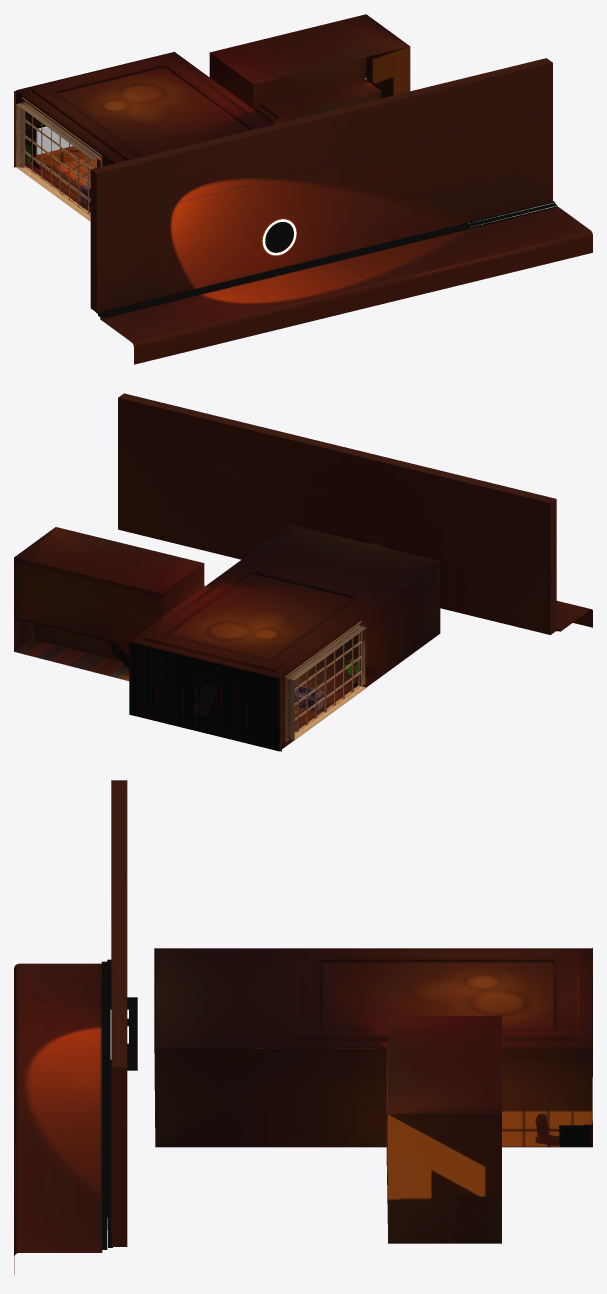
File: compressedRoomIntro.glb
The picture shows the model from 3 angles, top to bottom: view 1: azimuth 30°, elevation 25°; view 2: azimuth 150°, elevation 25°; view 3: azimuth 270°, elevation 25°; orthographic projection. The views are drawn at different scales.
Parts seen in each view (by area): view 1: Cube.009, Cube.016 room1_wall, entrance_wall, Cube.003, Cylinder.030 room1_window, Cube.016 room1_wall.001, Cube.004, Cube.005, Cube.006; view 2: Cube.009, Cube.016 room1_wall, hello world room1_floor, Cube.016 room1_wall.001, Cylinder.030 room1_window, Cube.004, entrance_wall, Cube.007, Cube.003; view 3: Cube.016 room1_wall, entrance_wall, Cube.009, Cube.003.
Part boxes in pixels (x1,y1,x2,y2): Cube.009: (90,58,552,312); Cube.016 room1_wall: (16,14,410,166); entrance_wall: (100,207,592,364); Cube.003: (96,201,557,318); Cylinder.030 room1_window: (16,97,102,221); Cube.016 room1_wall.001: (31,157,101,212); Cube.004: (14,91,46,167); Cube.005: (33,146,87,169); Cube.006: (36,126,72,154); Cube.009: (118,393,556,634); Cube.016 room1_wall: (14,524,440,750); hello world room1_floor: (129,642,279,751); Cube.016 room1_wall.001: (14,634,358,742); Cylinder.030 room1_window: (285,621,366,741); Cube.004: (131,643,281,751); entrance_wall: (556,601,592,631); Cube.007: (294,684,323,711); Cube.003: (192,629,560,716); Cube.016 room1_wall: (154,948,592,1243); entrance_wall: (14,963,102,1274); Cube.009: (111,780,127,1246); Cube.003: (101,959,137,1249).
Size of the model in its own units: 84.97 by 29.38 by 71.89.
Materials: 27 (27 with a texture image).
